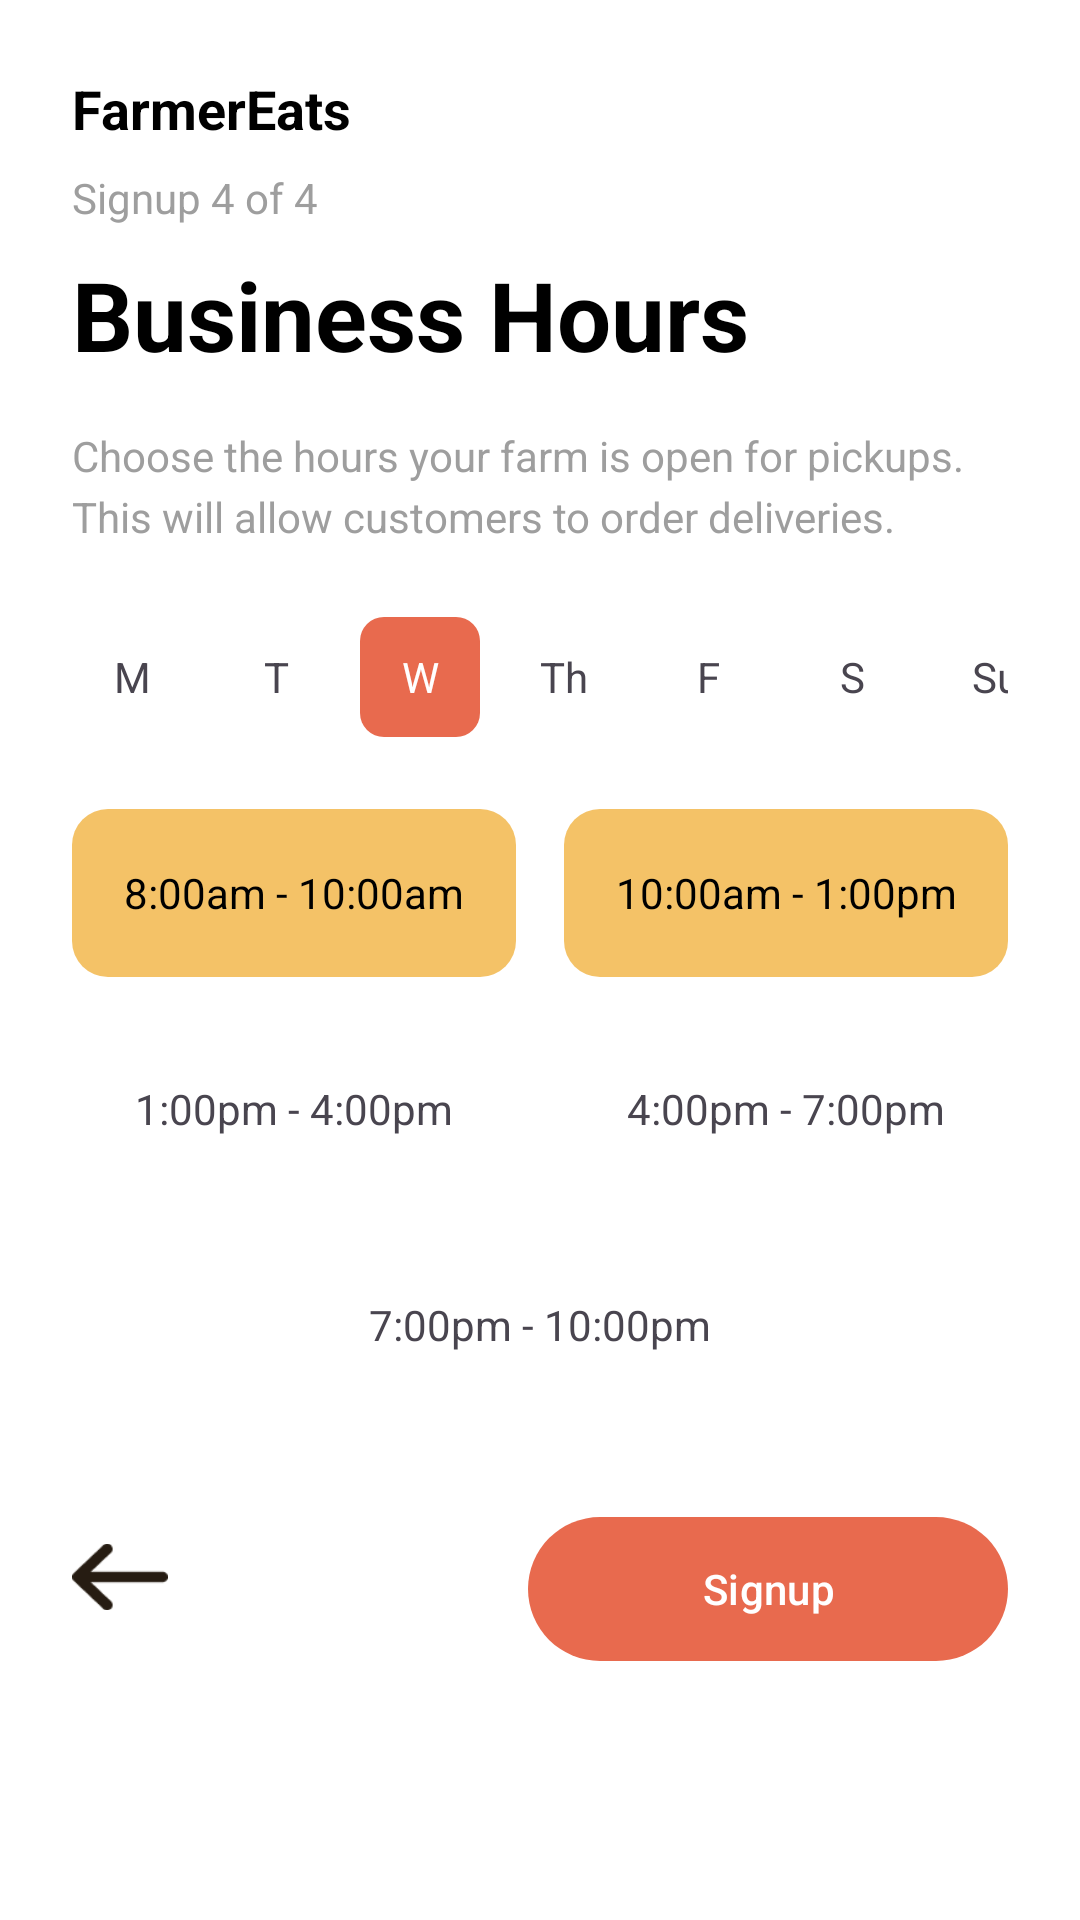

Icons on this 1080px x 1920px Android screen, each with its box as [x1, y1, x2, y2]:
back: [72, 1544, 168, 1610]
